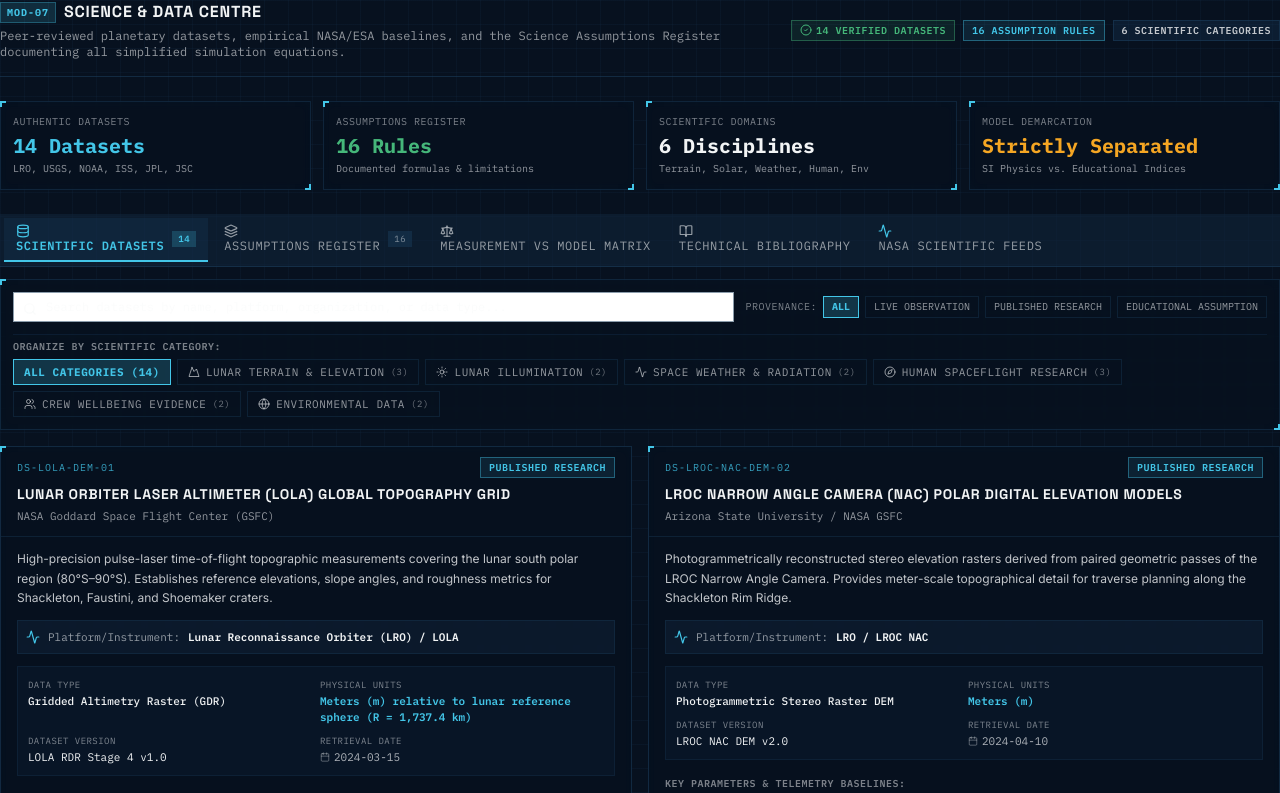
Test case: LIGHTTIME Science and Data Centre › ScienceDataView UI Rendering & User Workflows › switches to Demarcation Matrix tab and displays non-clinical advisory
The image size is (1280, 793).
Click the tab "Measurement vs Model Matrix": [546, 240] box left=428, top=218, right=663, bottom=262
(page scrolled)
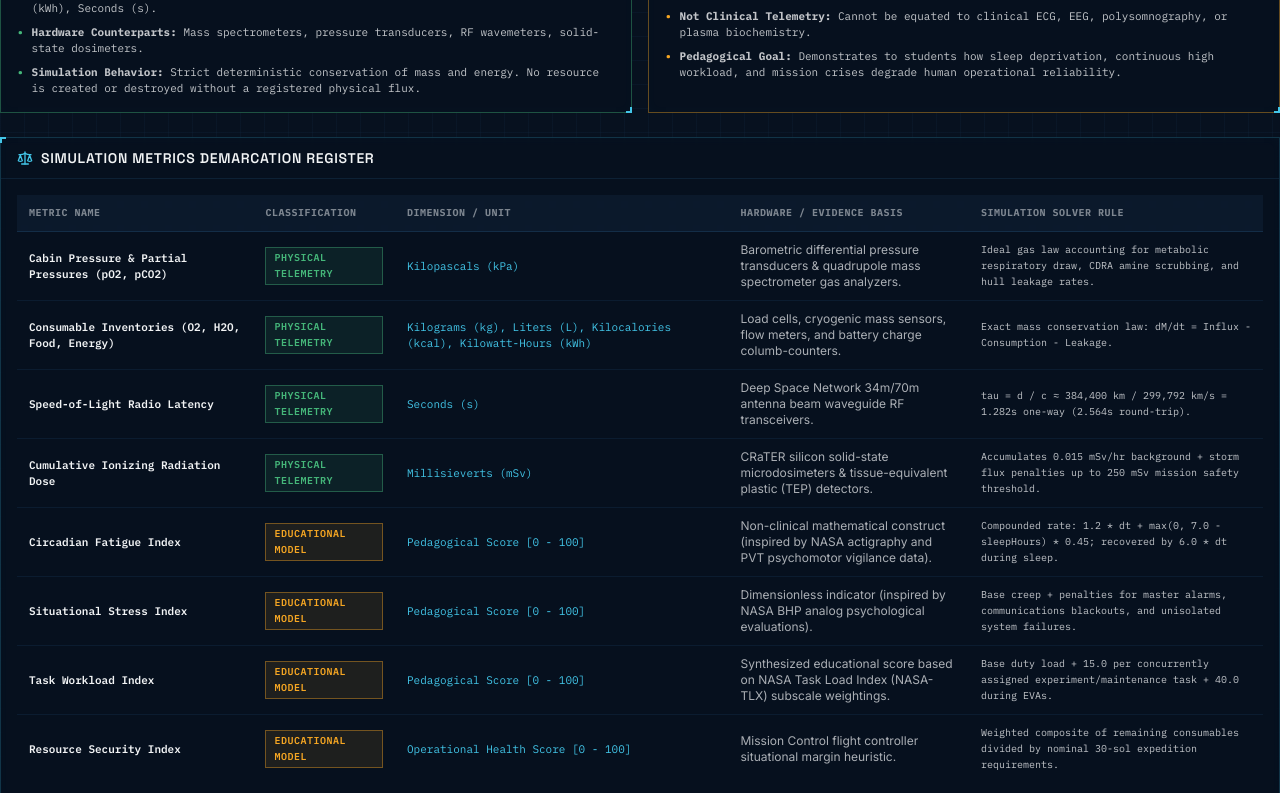
Check: the heading "SIMULATION METRICS DEMARCATION REGISTER" is shown, box left=17, top=148, right=374, bottom=168
Check: the text "Cabin Pressure & Partial Pressures (pO2, pCO2)" is shown, box left=17, top=232, right=253, bottom=300
Check: the text "Circadian Fatigue Index" is shown, box left=17, top=508, right=253, bottom=576
